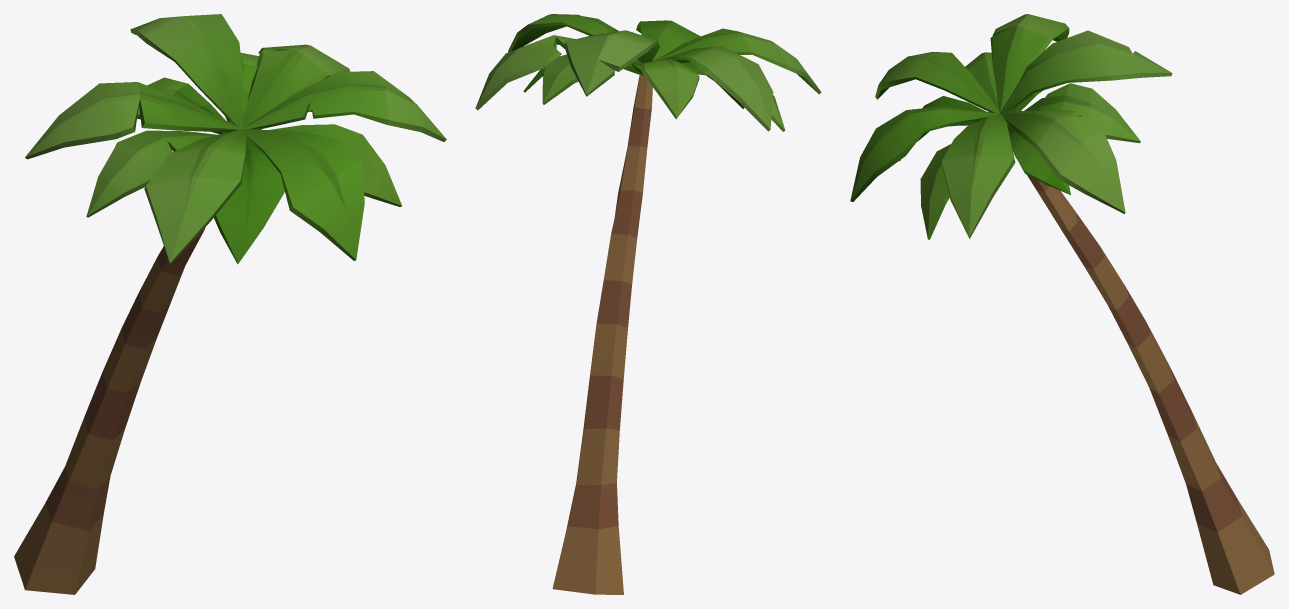
The model's file is Anim_PalmTree_Colour.fbx.
3 views of the same model, side by side, from view 1: azimuth 30°, elevation 25°; view 2: azimuth 150°, elevation 25°; view 3: azimuth 270°, elevation 25° (orthographic). The views are drawn at different scales.
Visible parts, largest first — view 1: Anim_PalmTree_Colour; view 2: Anim_PalmTree_Colour; view 3: Anim_PalmTree_Colour.
Part boxes in pixels (x1=…): Anim_PalmTree_Colour: x1=14, y1=14, x2=446, y2=594; Anim_PalmTree_Colour: x1=475, y1=14, x2=821, y2=594; Anim_PalmTree_Colour: x1=850, y1=14, x2=1274, y2=594.
Bounding box in the file's own units: 4.87 × 7.72 × 5.27.
